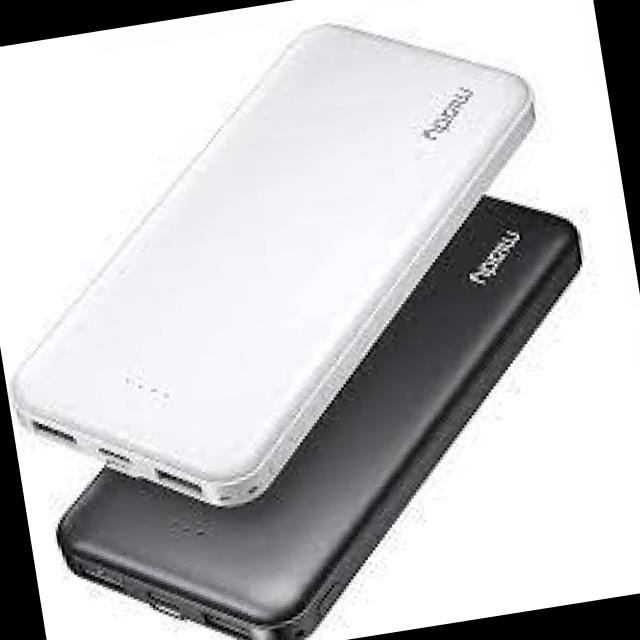portable-charger: (0, 0, 594, 538), (14, 174, 640, 640)
